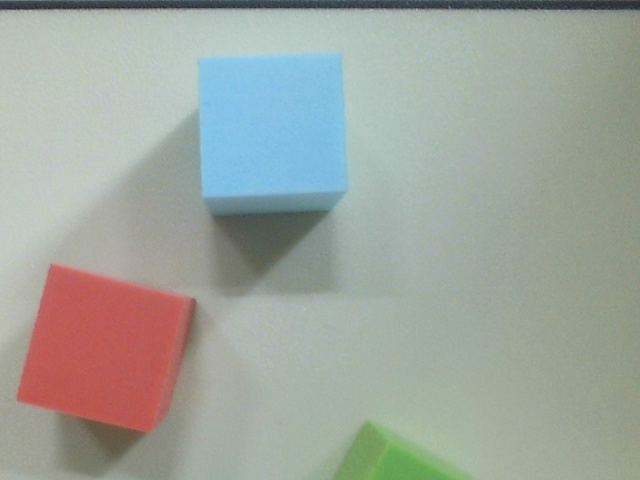greencube: (308, 412, 490, 480)
